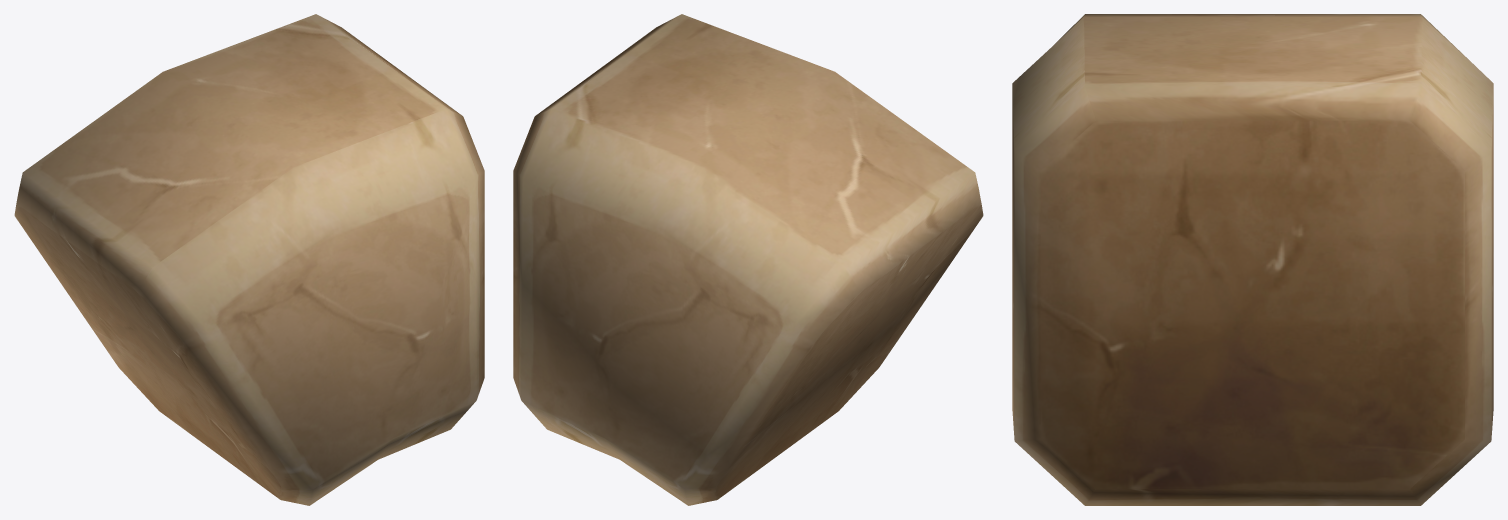
File: DE_House_Mod_Part_60.fbx
3 views of the same model, side by side, from view 1: azimuth 30°, elevation 25°; view 2: azimuth 150°, elevation 25°; view 3: azimuth 270°, elevation 25° (orthographic). The views are drawn at different scales.
Visible parts, largest first — view 1: DE_House_Mod_Part_60; view 2: DE_House_Mod_Part_60; view 3: DE_House_Mod_Part_60.
Boxes of the visible parts, x1,y1,x2,y2 form: DE_House_Mod_Part_60: (14, 14, 484, 505); DE_House_Mod_Part_60: (513, 14, 983, 505); DE_House_Mod_Part_60: (1012, 14, 1493, 505).
Size of the model in its own units: 0.6802 by 0.7263 by 0.6738.
